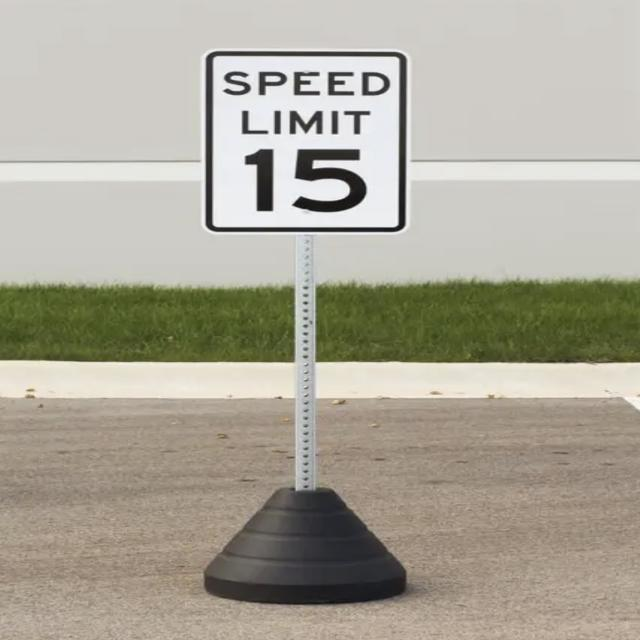speedLimit15: (208, 52, 404, 229)
